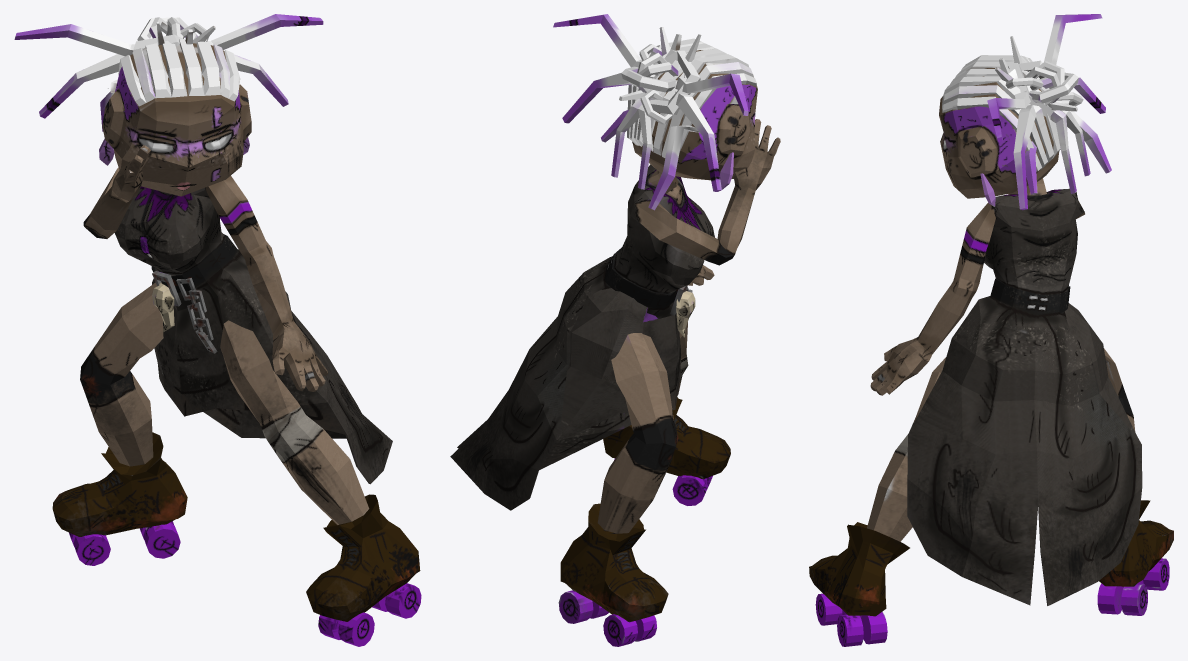
The model's file is bruja_000016.obj.
3 views of the same model, side by side, from view 1: azimuth 30°, elevation 25°; view 2: azimuth 150°, elevation 25°; view 3: azimuth 270°, elevation 25° (orthographic). The views are drawn at different scales.
Visible parts, largest first — view 1: Bruja_Plane.001; view 2: Bruja_Plane.001; view 3: Bruja_Plane.001.
Part boxes in pixels (box(x1,y1,x2,y2)): Bruja_Plane.001: box(14, 14, 421, 646); Bruja_Plane.001: box(450, 14, 780, 646); Bruja_Plane.001: box(809, 14, 1173, 646).
Bounding box in the file's own units: 9.41 × 15.44 × 9.24.
